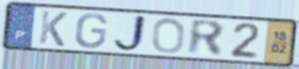2: (230, 22, 262, 60)
G: (73, 12, 110, 50)
J: (111, 13, 149, 55)
K: (37, 9, 70, 48)
O: (150, 17, 187, 55)
R: (186, 18, 226, 59)
